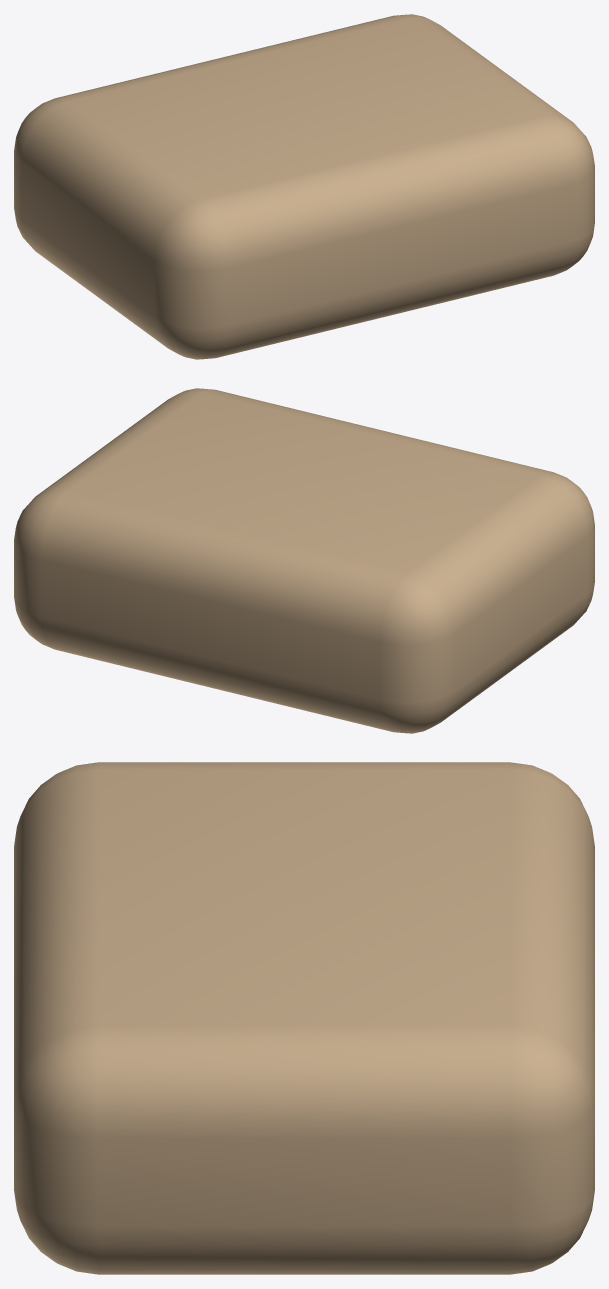
The model's file is auto-cotton-cushion.glb.
3 views of the same model, one above another, from view 1: azimuth 30°, elevation 25°; view 2: azimuth 150°, elevation 25°; view 3: azimuth 270°, elevation 25° (orthographic). The views are drawn at different scales.
Visible parts, largest first — view 1: Cotton cushion body; view 2: Cotton cushion body; view 3: Cotton cushion body.
Boxes of the visible parts, bbox=[...] form: Cotton cushion body: bbox=[14, 14, 594, 359]; Cotton cushion body: bbox=[14, 388, 594, 733]; Cotton cushion body: bbox=[14, 762, 594, 1274].
Size of the model in its own units: 0.32 by 0.11 by 0.24.
